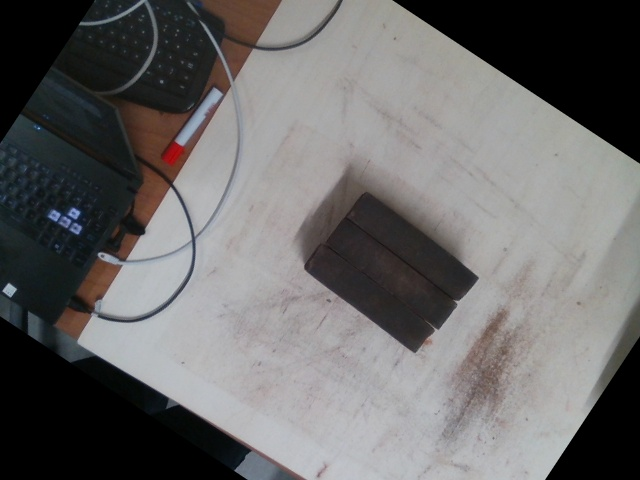brick-side: (327, 216, 457, 328), (305, 243, 435, 355), (348, 192, 478, 303)
